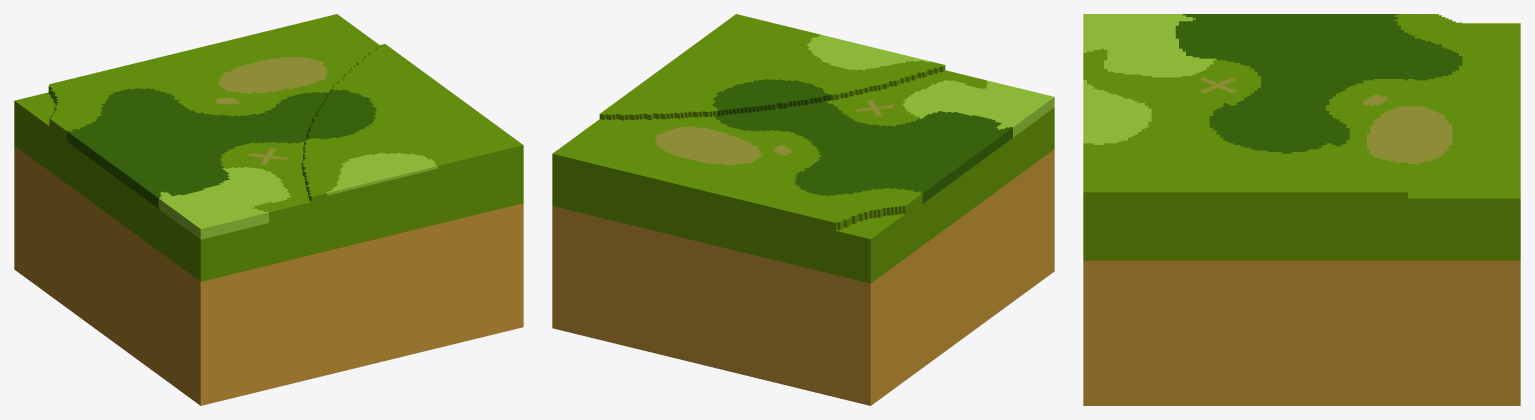
3 views of the same model, side by side, from view 1: azimuth 30°, elevation 25°; view 2: azimuth 150°, elevation 25°; view 3: azimuth 270°, elevation 25° (orthographic). The views are drawn at different scales.
Parts seen in each view (by area): view 1: 14H; view 2: 14H; view 3: 14H.
Boxes of the visible parts, bbox=[...] form: 14H: bbox=[14, 14, 523, 405]; 14H: bbox=[552, 14, 1054, 405]; 14H: bbox=[1083, 14, 1520, 405].
Bounding box in the file's own units: 12.8 × 6.9 × 12.8.
1 material, 1 textured.
